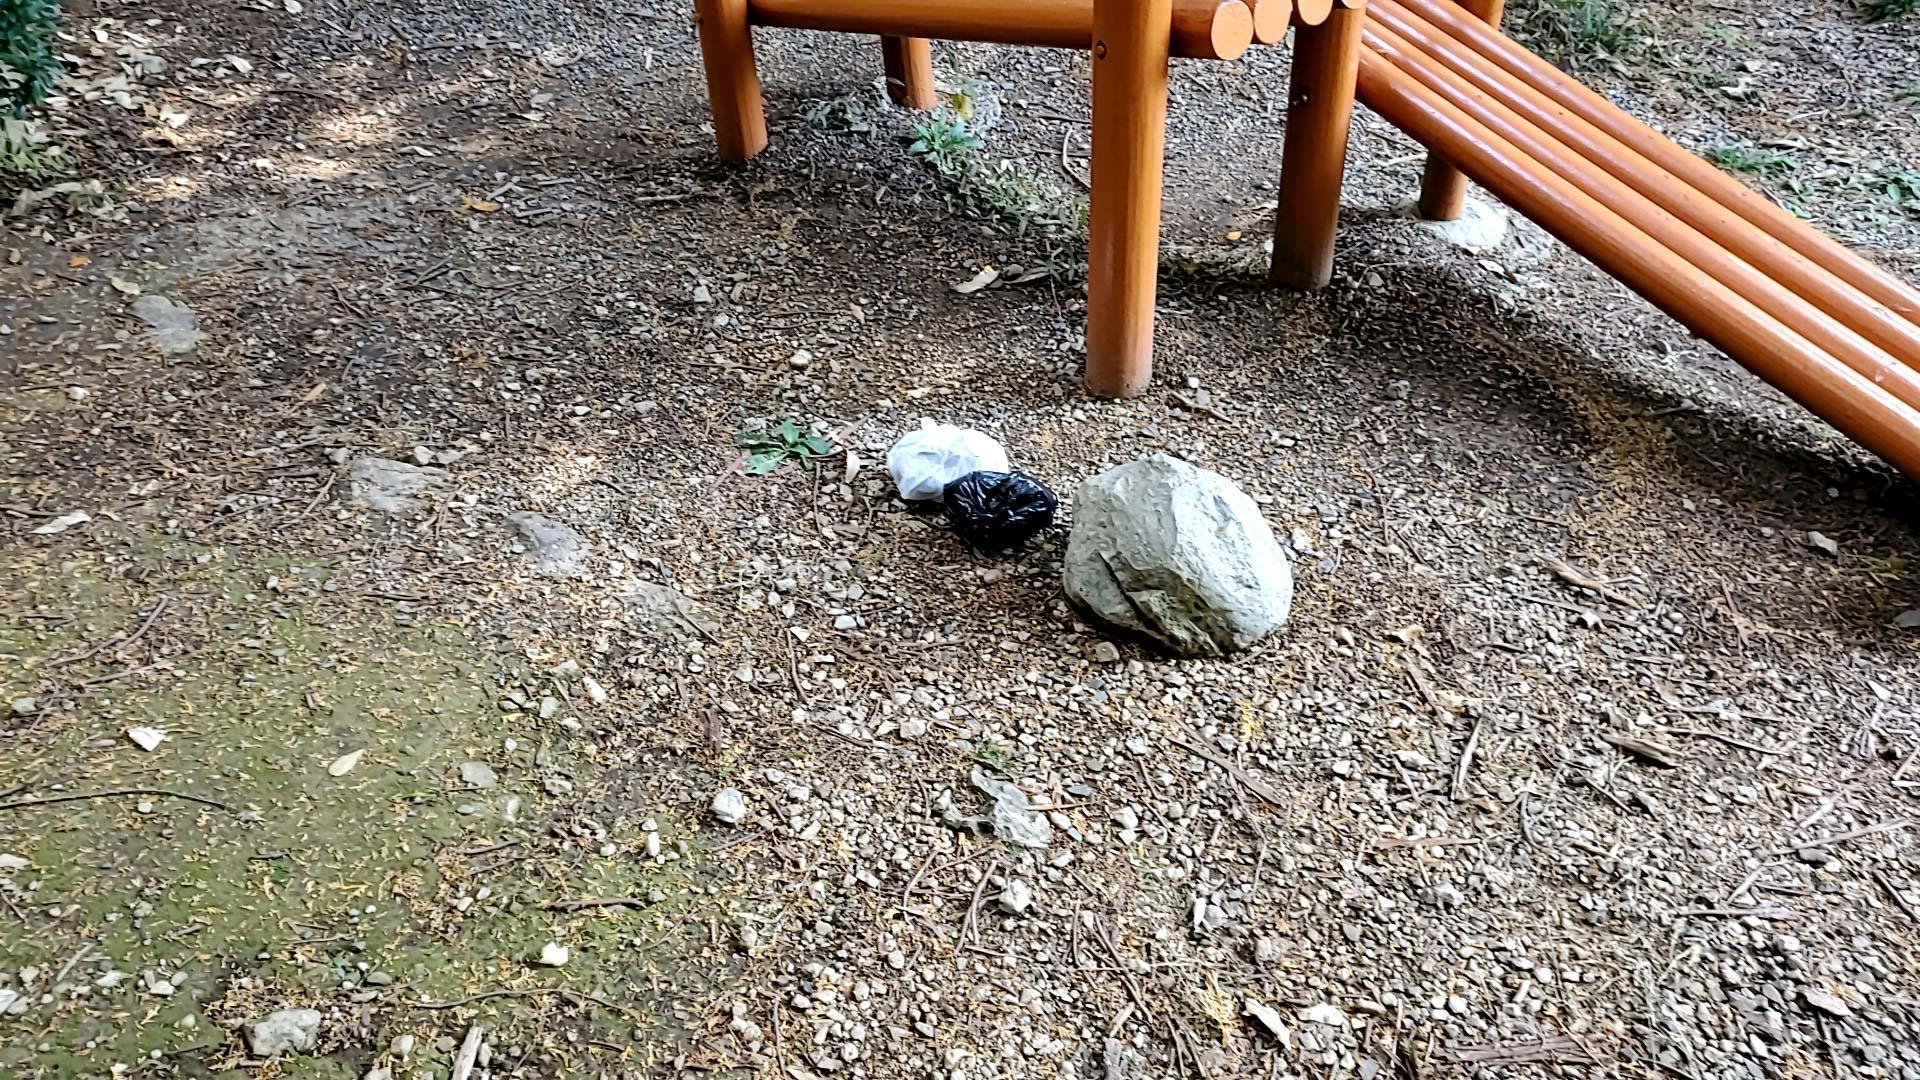black_bag: (939, 465, 1060, 553)
white_bag: (880, 410, 1011, 506)
